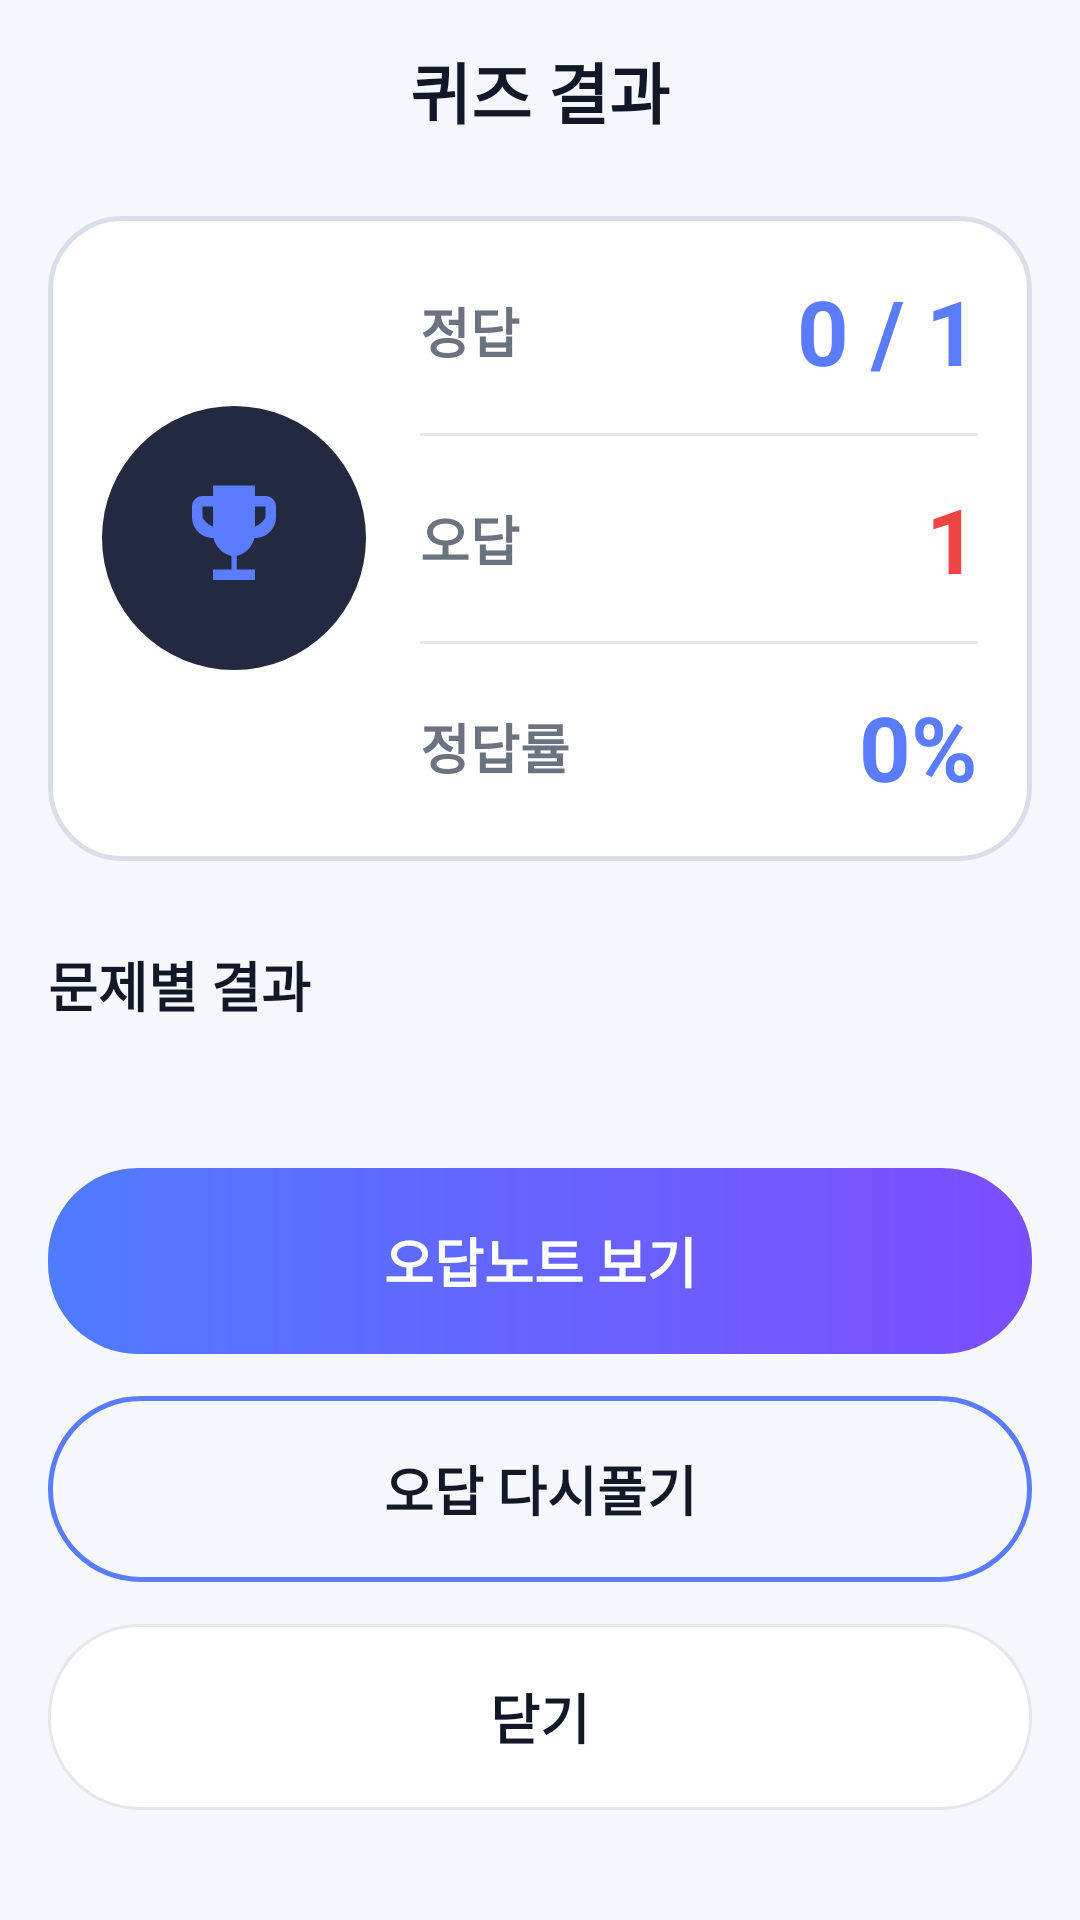

Locate icon controls on the screen. Image size 1080x1920, boxes as {"left": x1, "top": y1, "right": x2, "bottom": y2}.
result trophy: {"left": 192, "top": 485, "right": 276, "bottom": 580}
